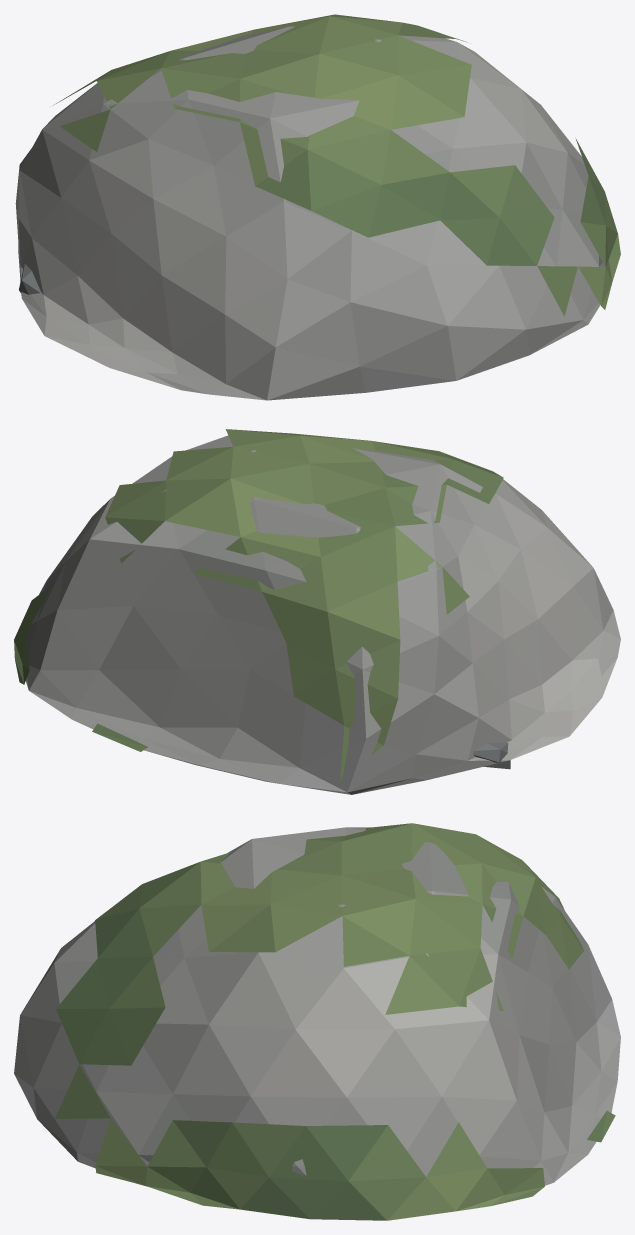
The model's file is mossy-rock.glb.
3 views of the same model, one above another, from view 1: azimuth 30°, elevation 25°; view 2: azimuth 150°, elevation 25°; view 3: azimuth 270°, elevation 25° (orthographic). The views are drawn at different scales.
Parts seen in each view (by area): view 1: mossy-rock; view 2: mossy-rock; view 3: mossy-rock.
Part boxes in pixels (x1,y1,x2,y2): mossy-rock: (15, 14, 620, 400); mossy-rock: (14, 429, 620, 794); mossy-rock: (14, 823, 620, 1220).
Bounding box in the file's own units: 1.27 × 0.5178 × 1.19.
